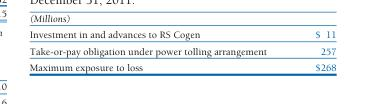table: (28, 28, 335, 72)
table column: (28, 28, 290, 72), (290, 28, 335, 72)
table row: (28, 42, 335, 59), (28, 28, 335, 42), (28, 59, 335, 72)
